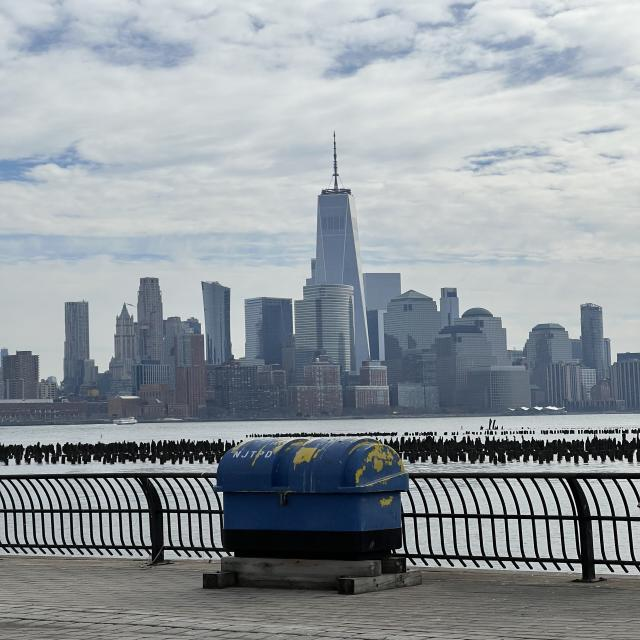WTC: (314, 131, 364, 286)
